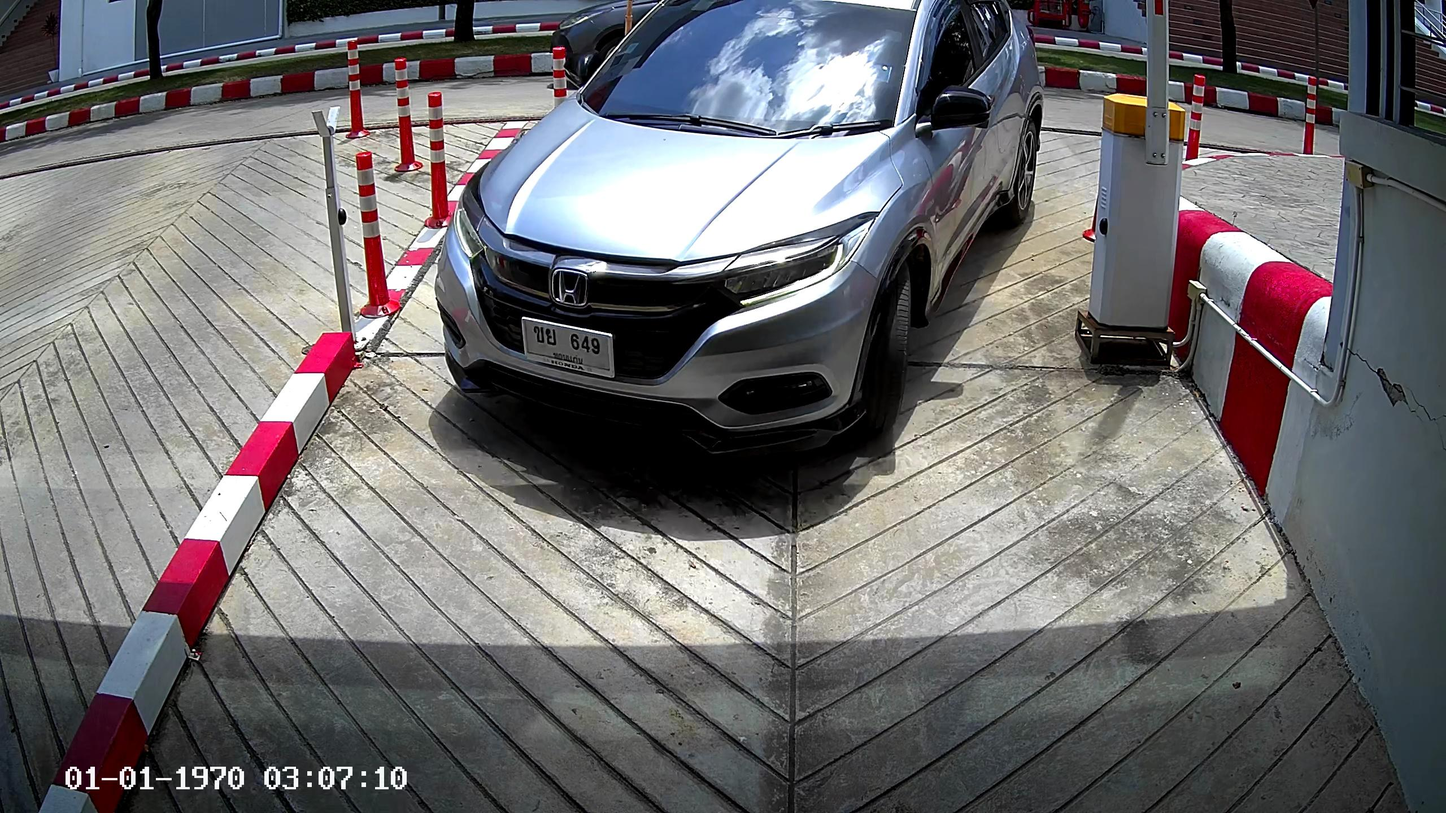car: (436, 3, 1043, 467)
license-plate: (517, 310, 617, 390)
